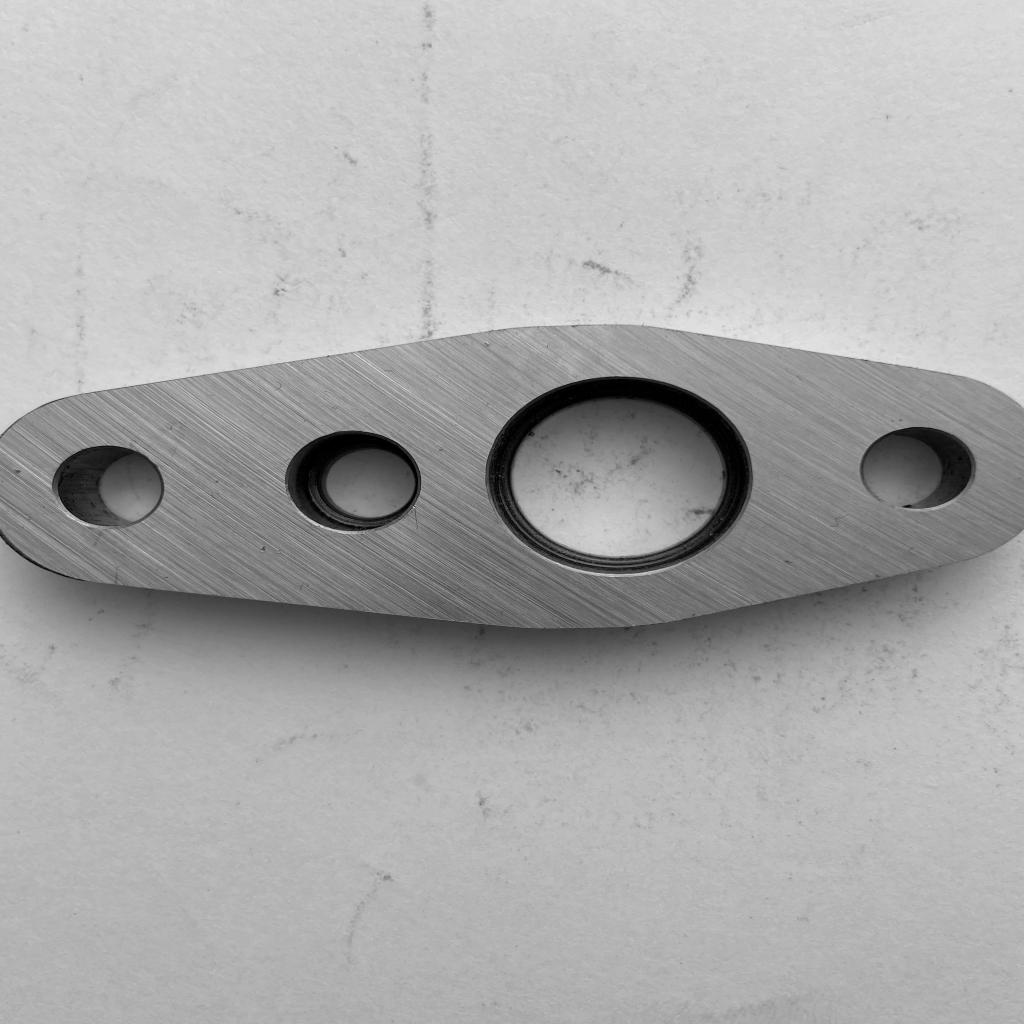chap: (9, 464, 25, 478), (256, 543, 270, 554), (889, 416, 904, 426), (780, 558, 796, 567), (274, 546, 286, 557), (480, 340, 494, 348)
